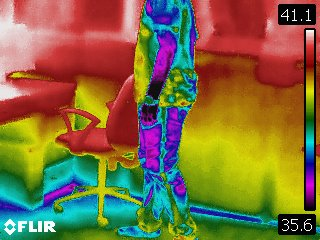human: (114, 1, 202, 238)
